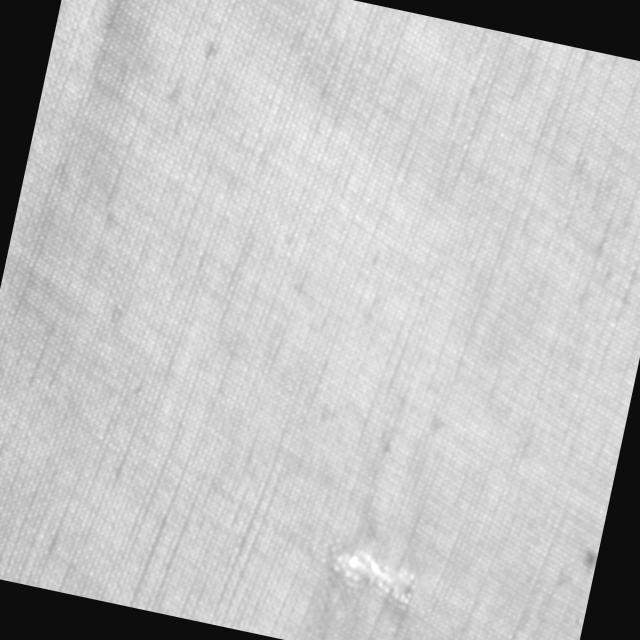hole: (326, 537, 425, 618)
